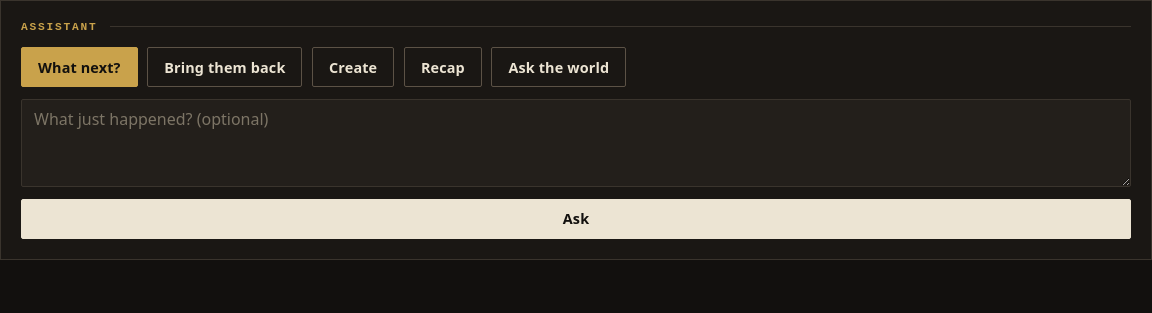
Test case: AssistantPanel › explains a 404 answer
This screenshot has width=1152, height=313.
Click the button with test id "ai-ask": (576,219) [21,199,1131,239]
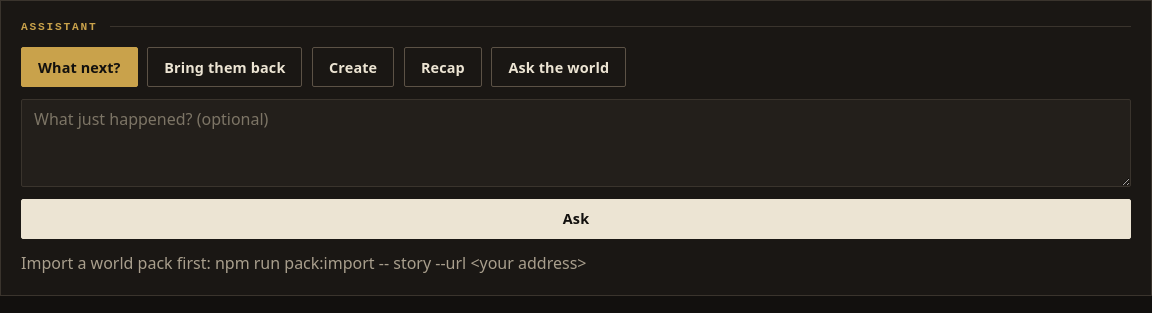
Check: the text with test id "ai-error" shows "Import a world pack", box [21,252,586,274]
